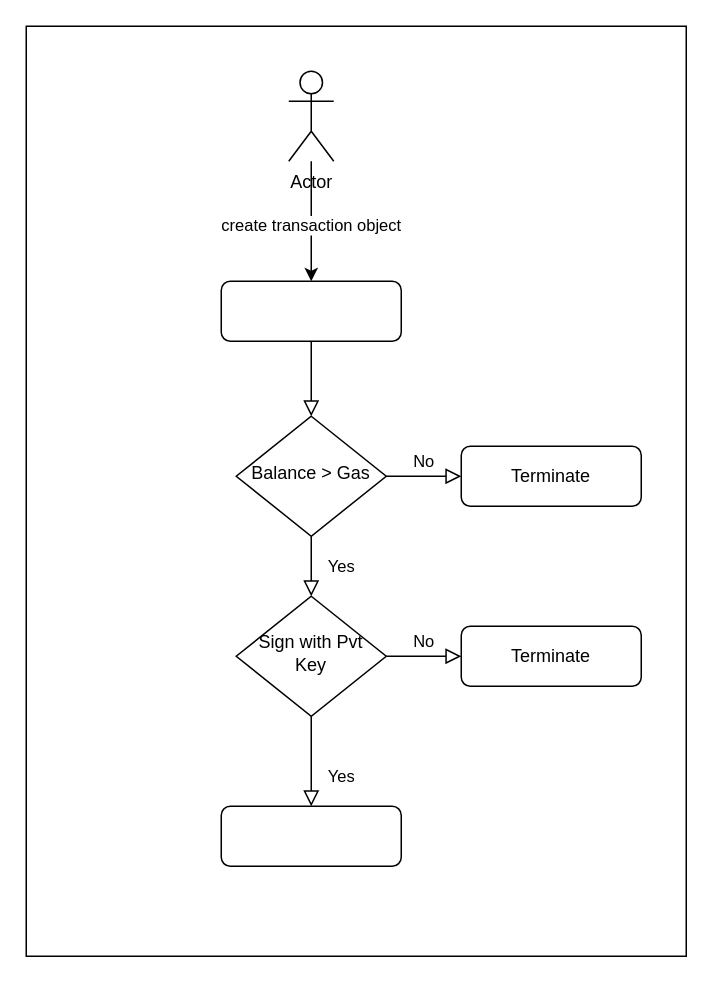
This 713x983 diagram has some shape labels left out. The centre of each missing label's shape, as x and y in pixels:
"Broadcast" goes at point (310, 835).
"Initate Transaction (EOA Account)" goes at point (310, 310).
